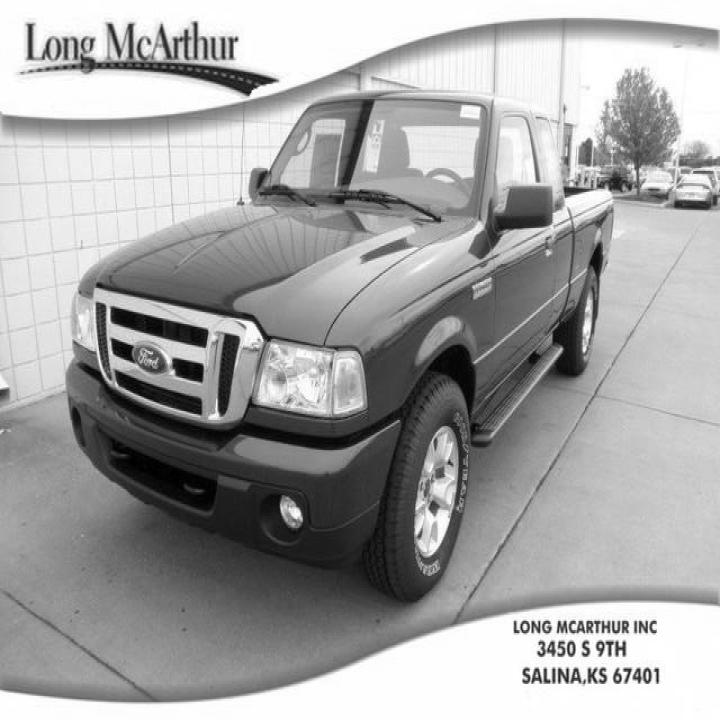car: (65, 85, 616, 603), (674, 174, 713, 210)
